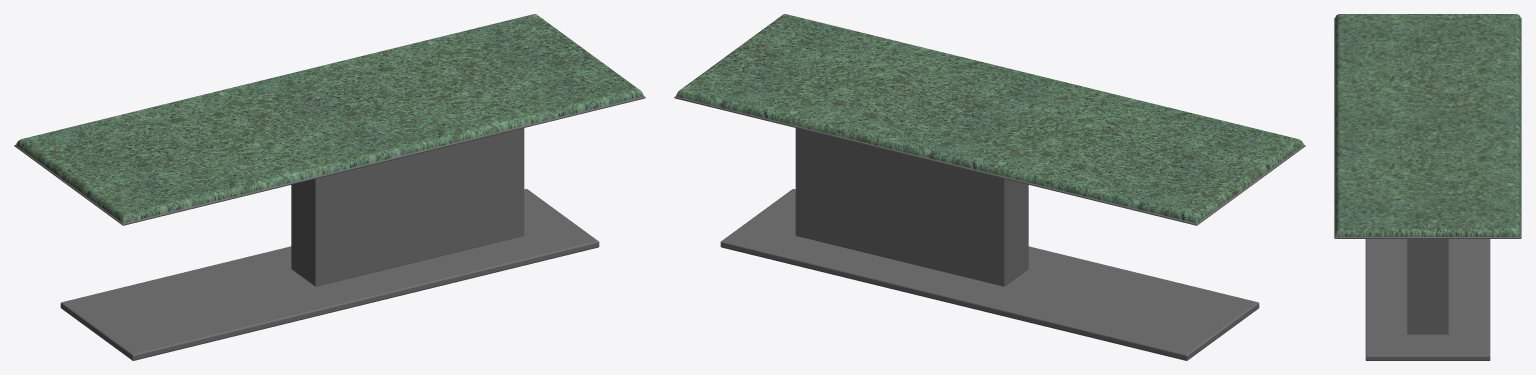
Rendered from ipe_cavalli_naos_fbx_upY.fbx.
The picture shows the model from 3 angles, left to right: view 1: azimuth 30°, elevation 25°; view 2: azimuth 150°, elevation 25°; view 3: azimuth 270°, elevation 25°; orthographic projection. The views are drawn at different scales.
Parts seen in each view (by area): view 1: ipe_cavalli_naos; view 2: ipe_cavalli_naos; view 3: ipe_cavalli_naos.
Part boxes in pixels (x1,y1,x2,y2): ipe_cavalli_naos: (14,14,645,360); ipe_cavalli_naos: (674,14,1305,360); ipe_cavalli_naos: (1334,14,1521,360).
Bounding box in the file's own units: 250 × 75 × 90.
